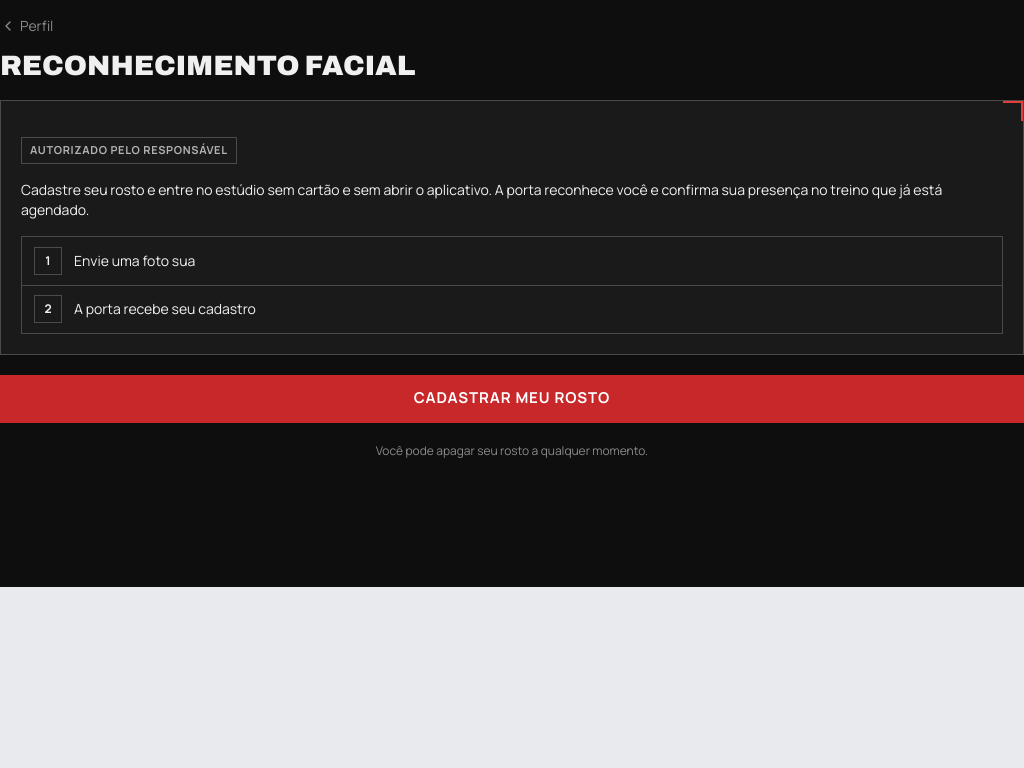
Scenario: regra de autorização facial para menor › menor autorizado inicia foto sem consentimento próprio
This screenshot has width=1024, height=768.
Click the button "Cadastrar meu rosto".
click(512, 398)  # box [0, 374, 1023, 422]
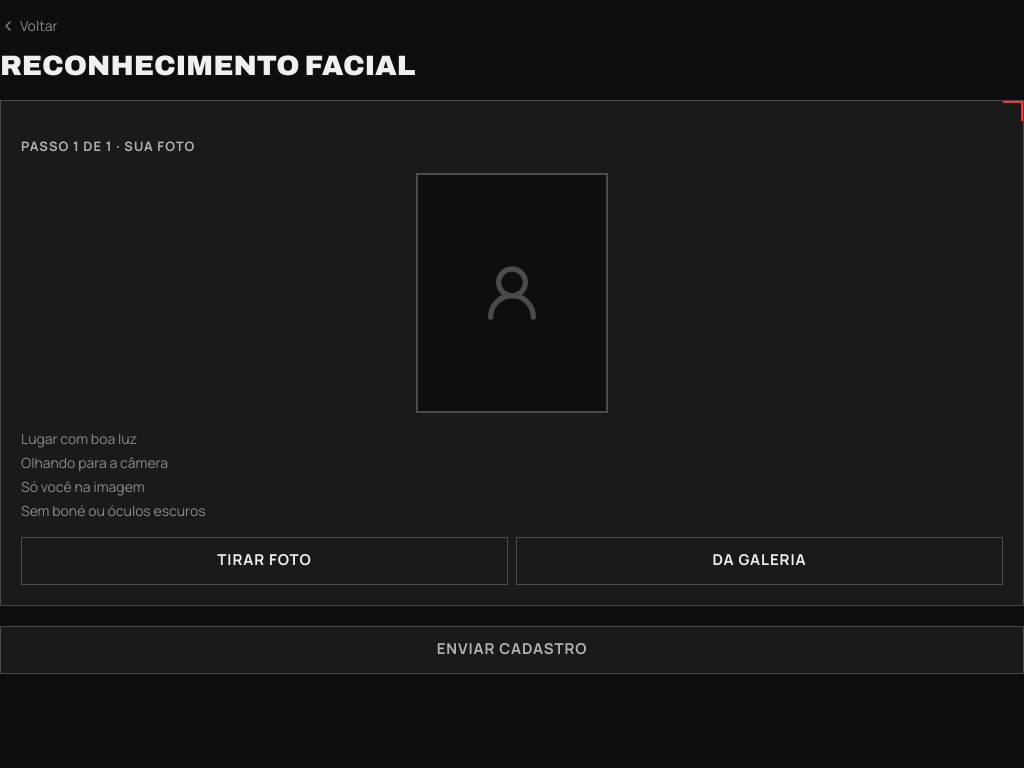
Check: the button "Da galeria" is shown, box [516, 536, 1003, 584]
